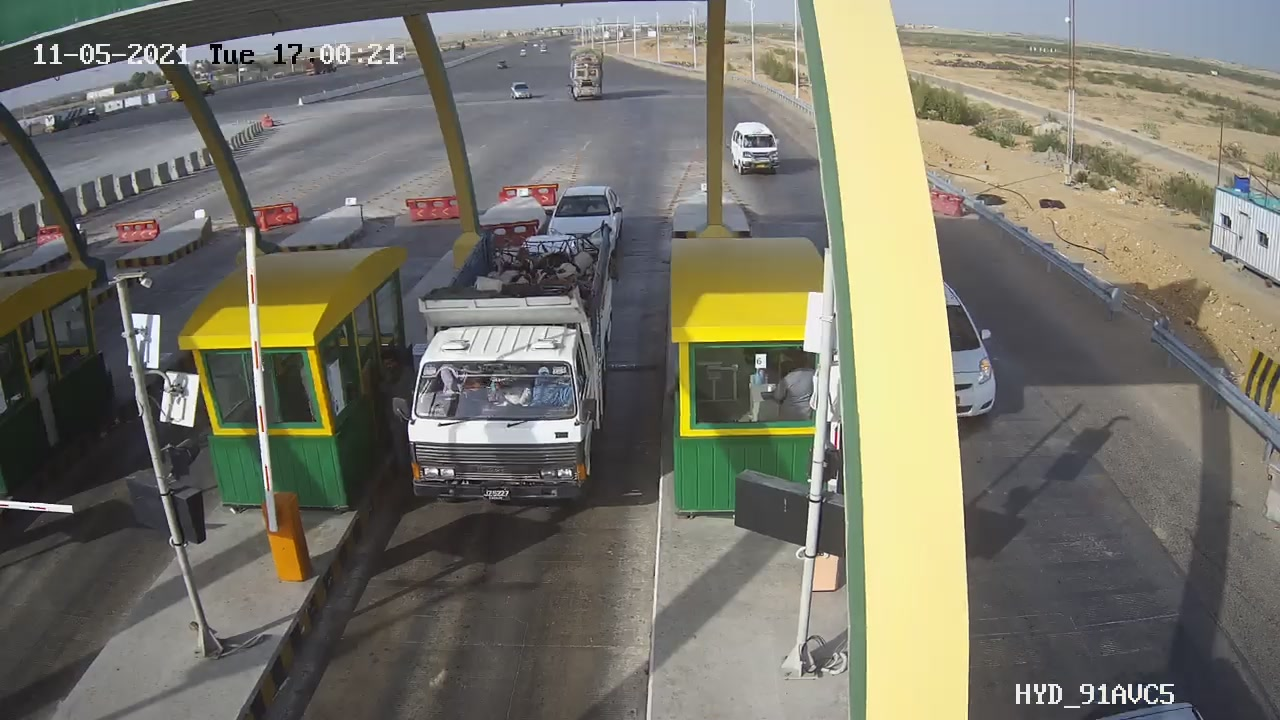F3: (385, 221, 634, 521)
